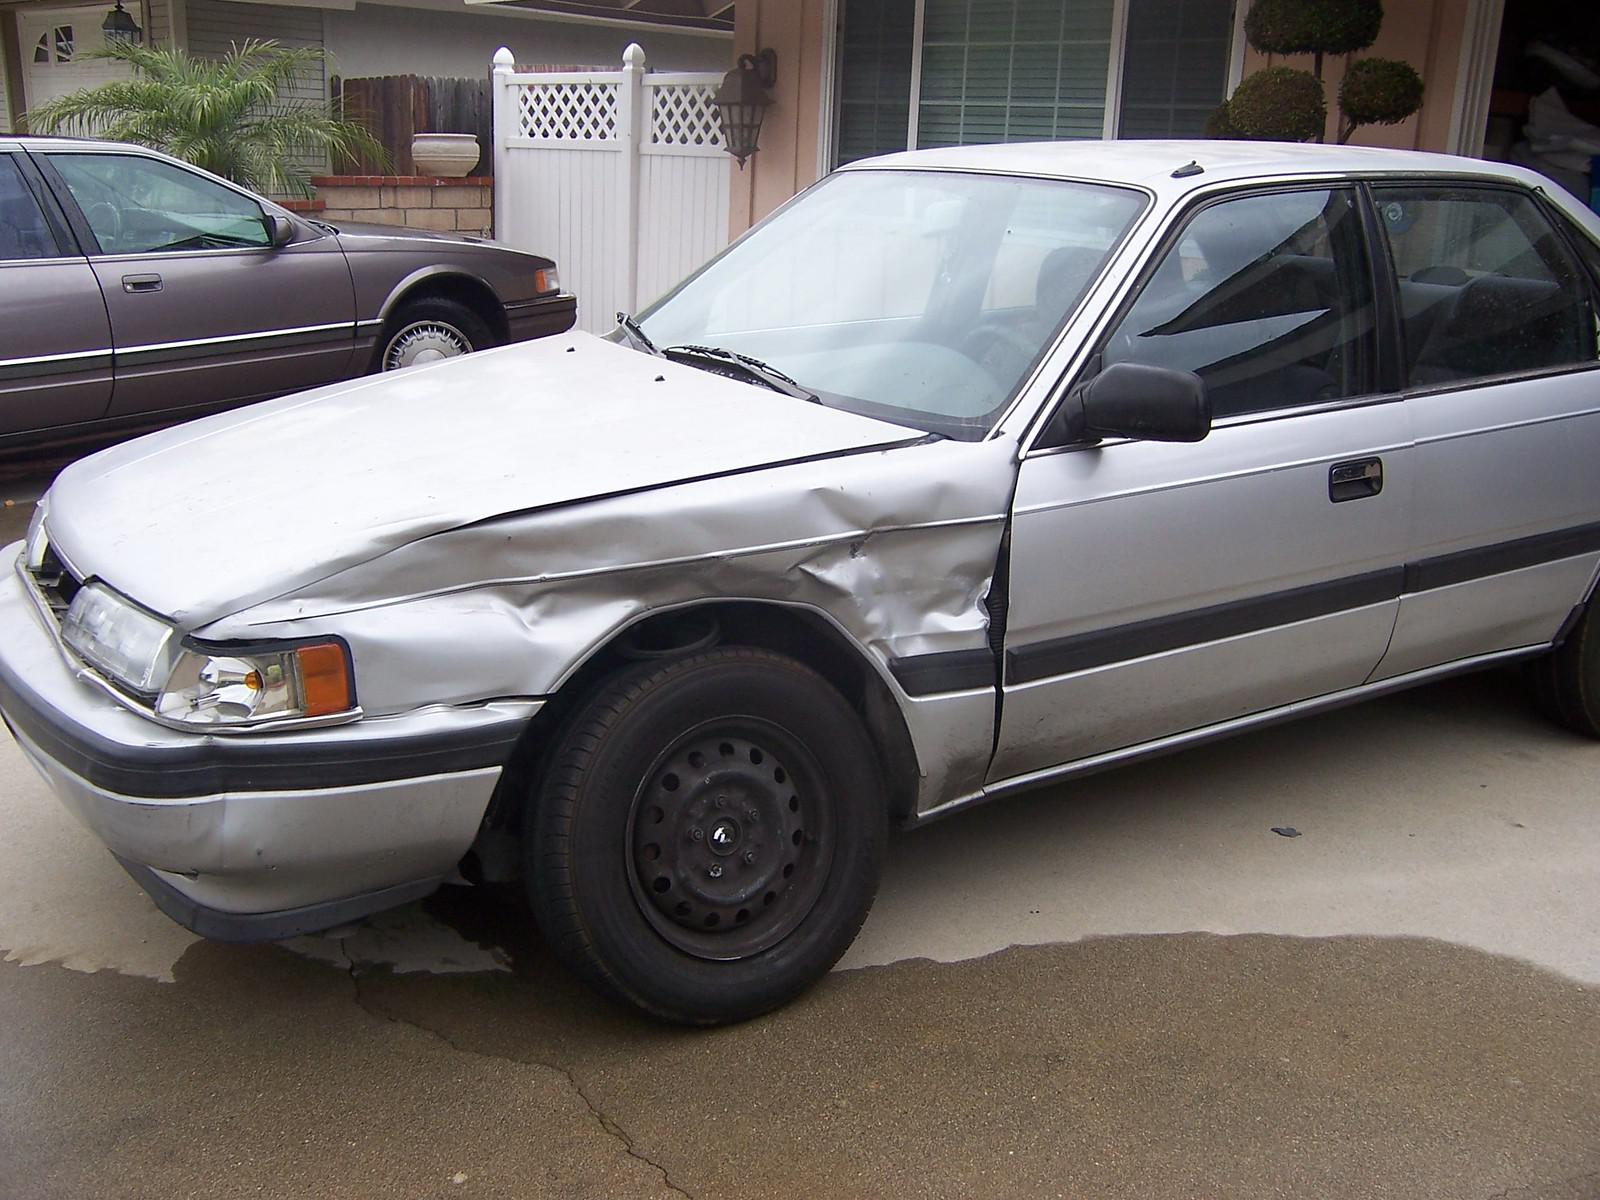fender-dent: (398, 476, 1010, 700)
